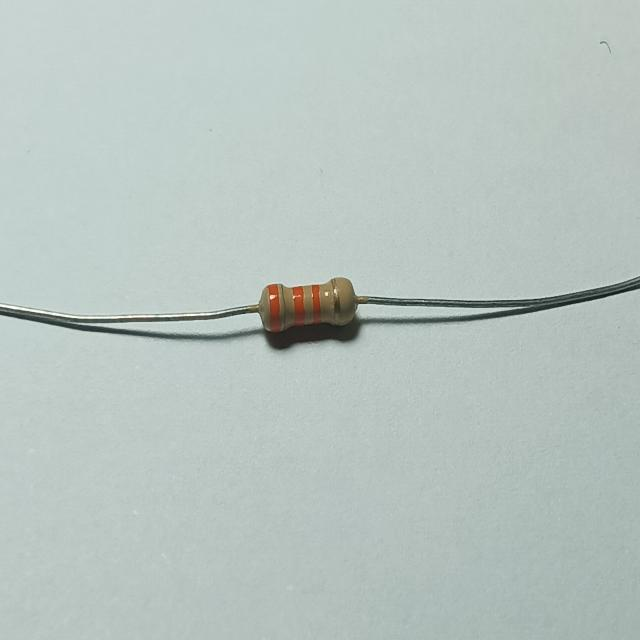33k ohms: (247, 260, 370, 355)
